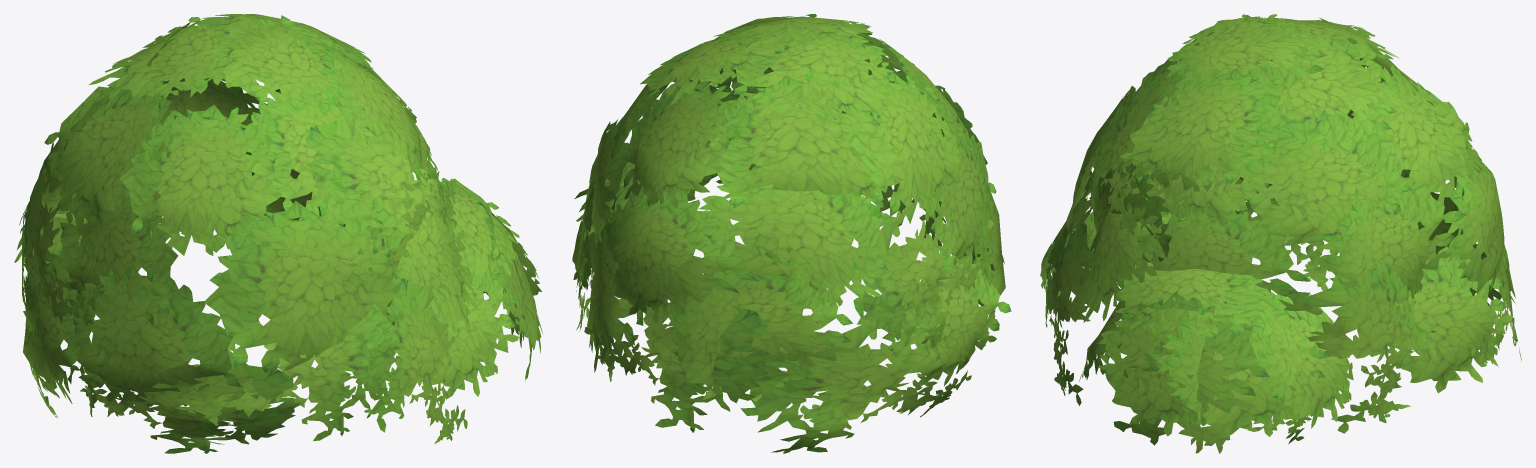
Rendered from JSY_tree_leaf.FBX.
3 renders of one model, left to right at view 1: azimuth 30°, elevation 25°; view 2: azimuth 150°, elevation 25°; view 3: azimuth 270°, elevation 25°, orthographic. The views are drawn at different scales.
Visible parts, largest first — view 1: Object388; view 2: Object388; view 3: Object388.
Boxes of the visible parts, x1,y1,x2,y2 form: Object388: (14, 14, 542, 453); Object388: (572, 14, 1011, 453); Object388: (1040, 14, 1521, 453).
Bounding box in the file's own units: 22.09 × 17.11 × 21.53.
